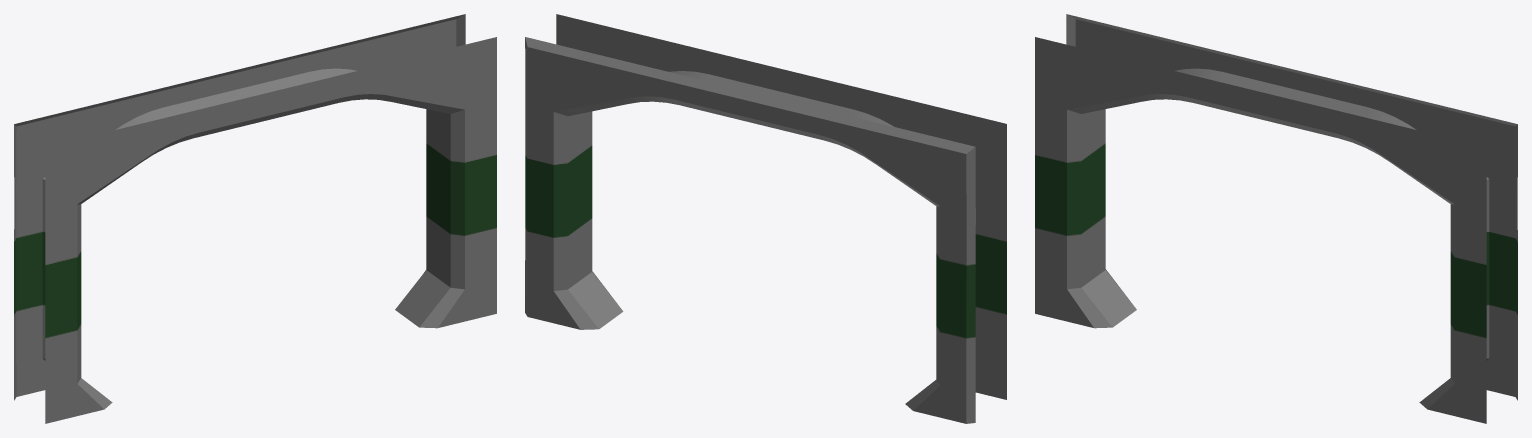
The model's file is Soporte_Base_Com.fbx.
3 renders of one model, left to right at view 1: azimuth 30°, elevation 25°; view 2: azimuth 150°, elevation 25°; view 3: azimuth 330°, elevation 25°, orthographic.
Visible parts, largest first — view 1: Soporte_baseCom; view 2: Soporte_baseCom; view 3: Soporte_baseCom.
Part boxes in pixels (x1,y1,x2,y2): Soporte_baseCom: [14, 14, 496, 423]; Soporte_baseCom: [525, 14, 1006, 423]; Soporte_baseCom: [1035, 14, 1517, 423].
Size of the model in its own units: 512 by 300 by 68.24.
Materials: 1 (1 with a texture image).
